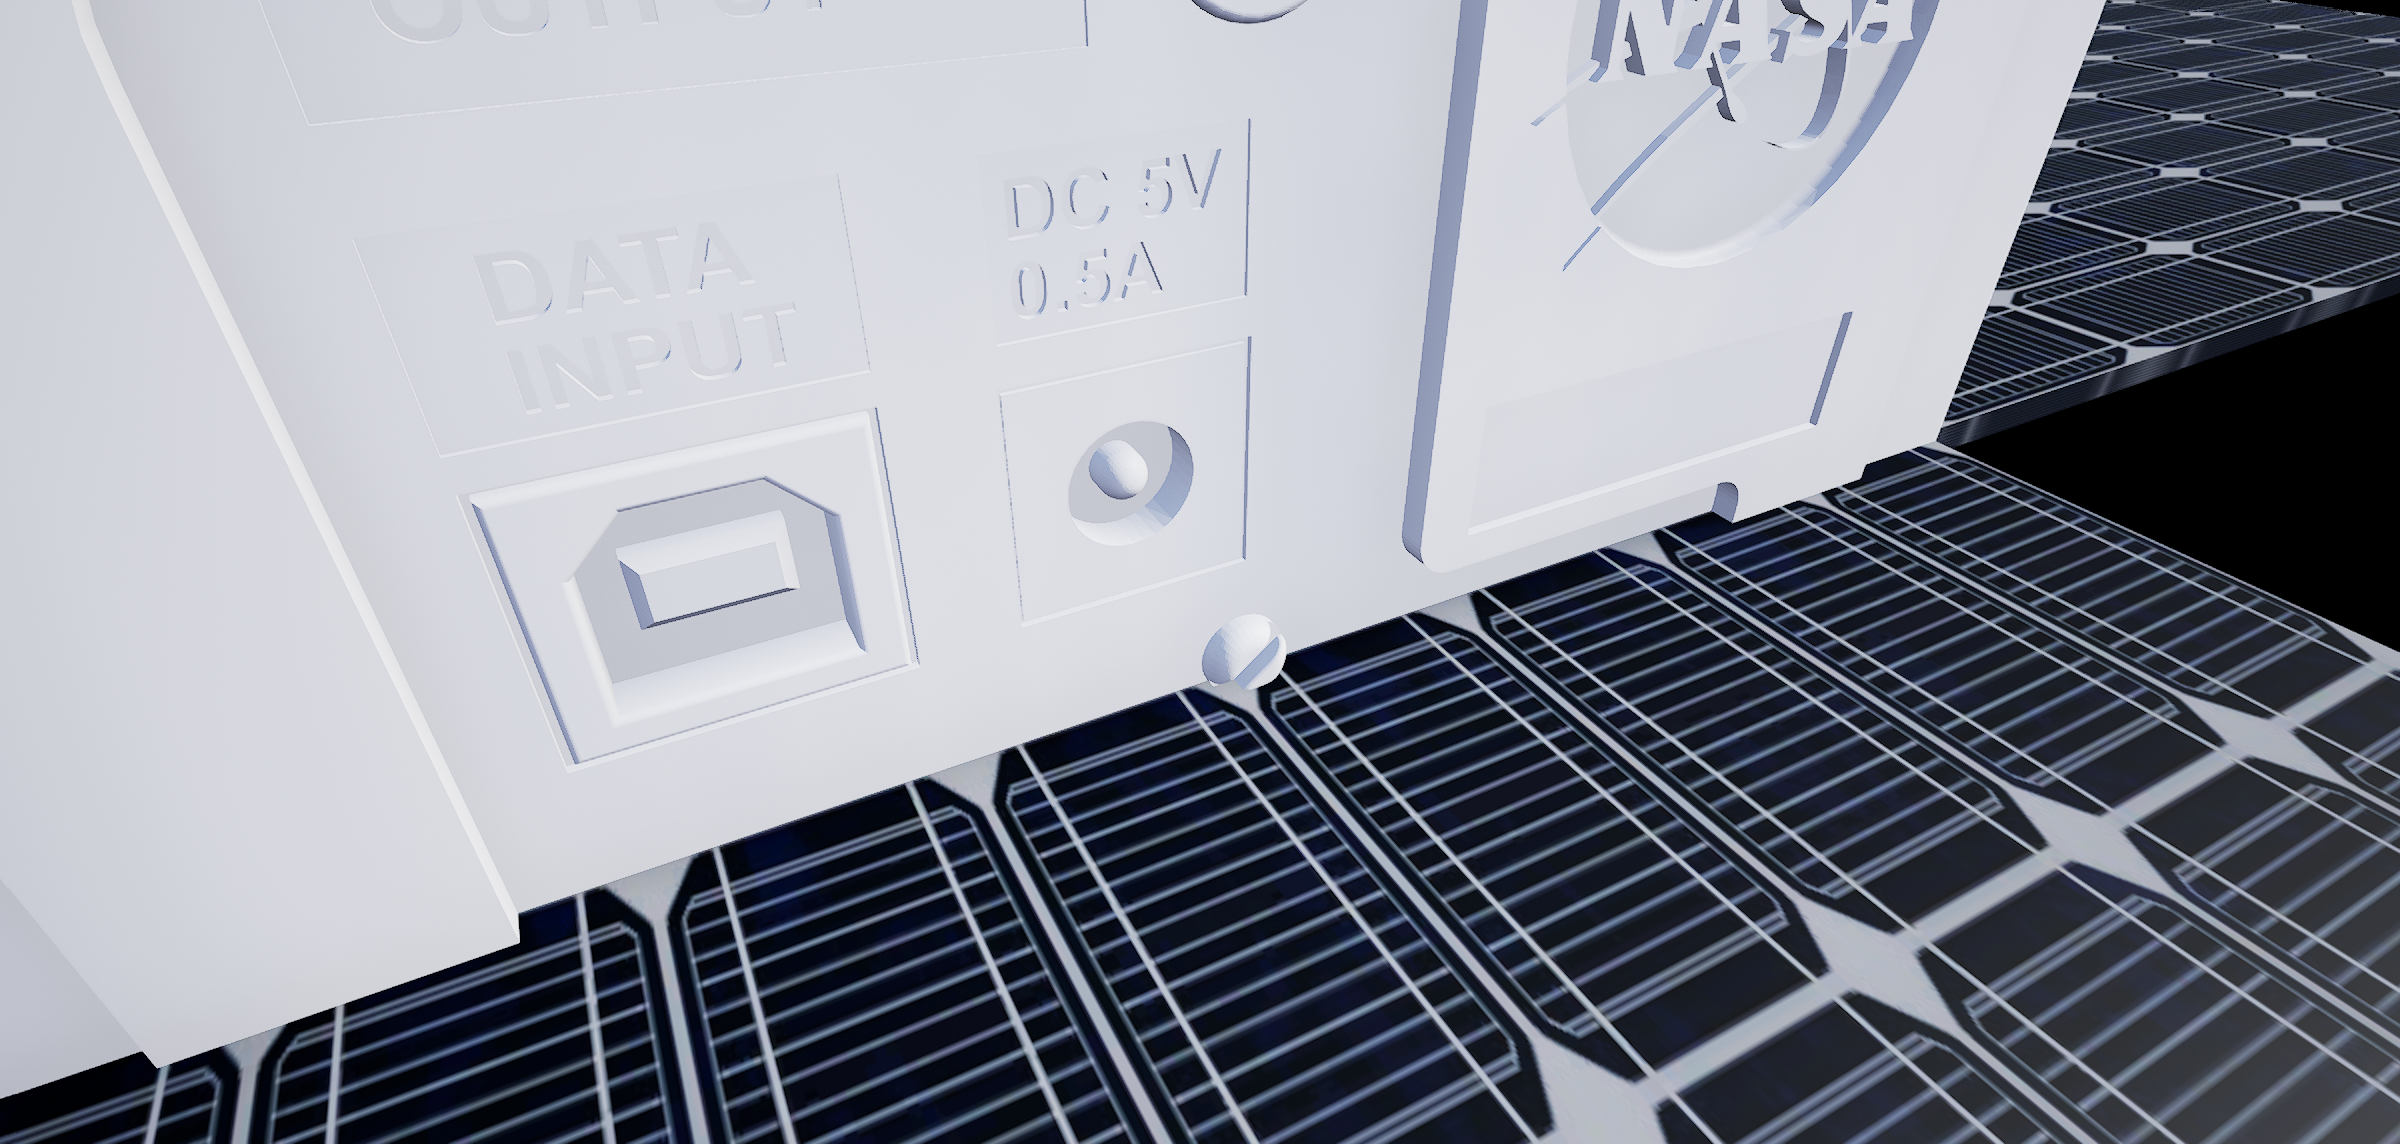dc: (1047, 420, 1226, 554)
usb: (562, 495, 882, 721)
